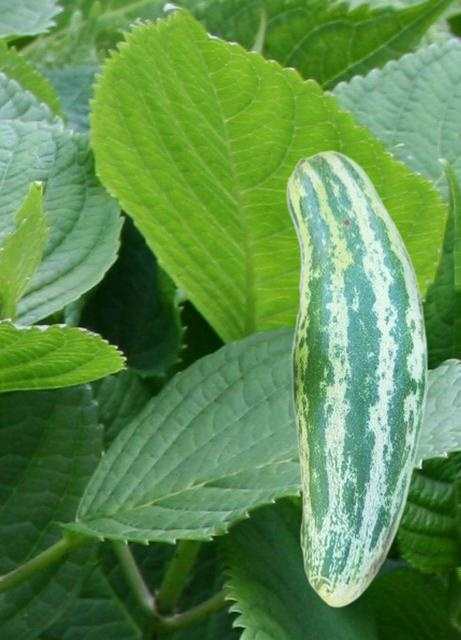cucumber: (285, 149, 427, 607)
